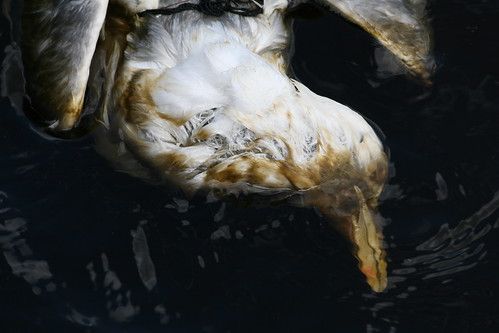animal: (1, 1, 428, 316)
